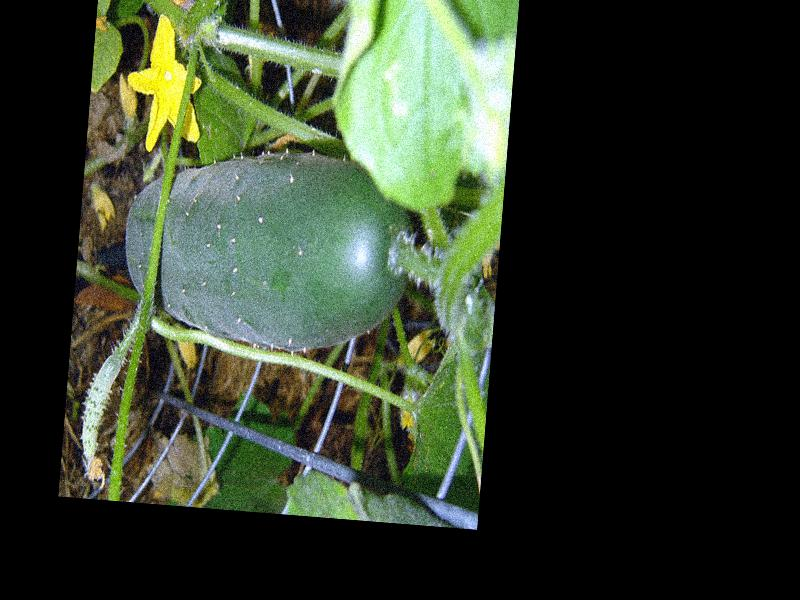Cucumber: (118, 140, 418, 362)
